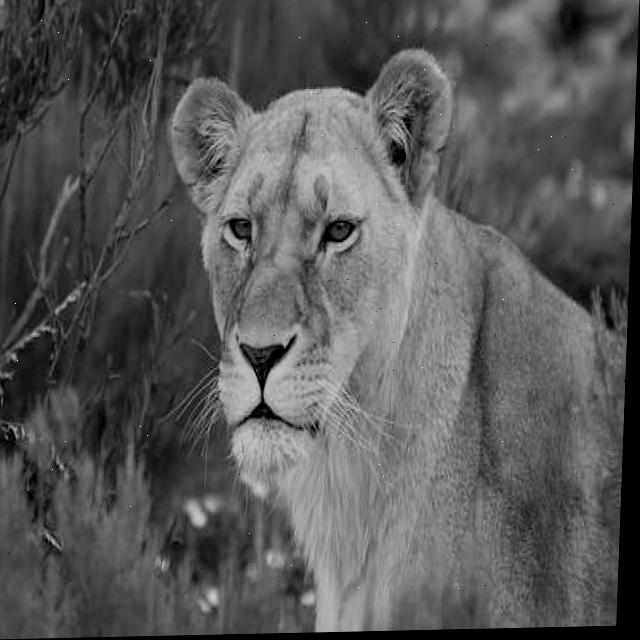Lion: (150, 25, 527, 521)
